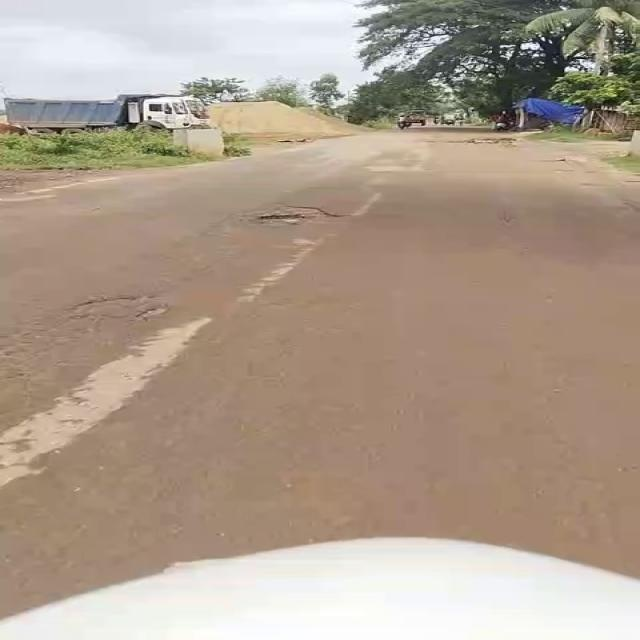pothole: (59, 294, 148, 308), (278, 202, 346, 219), (59, 312, 138, 324), (262, 213, 304, 228), (142, 302, 170, 324)
